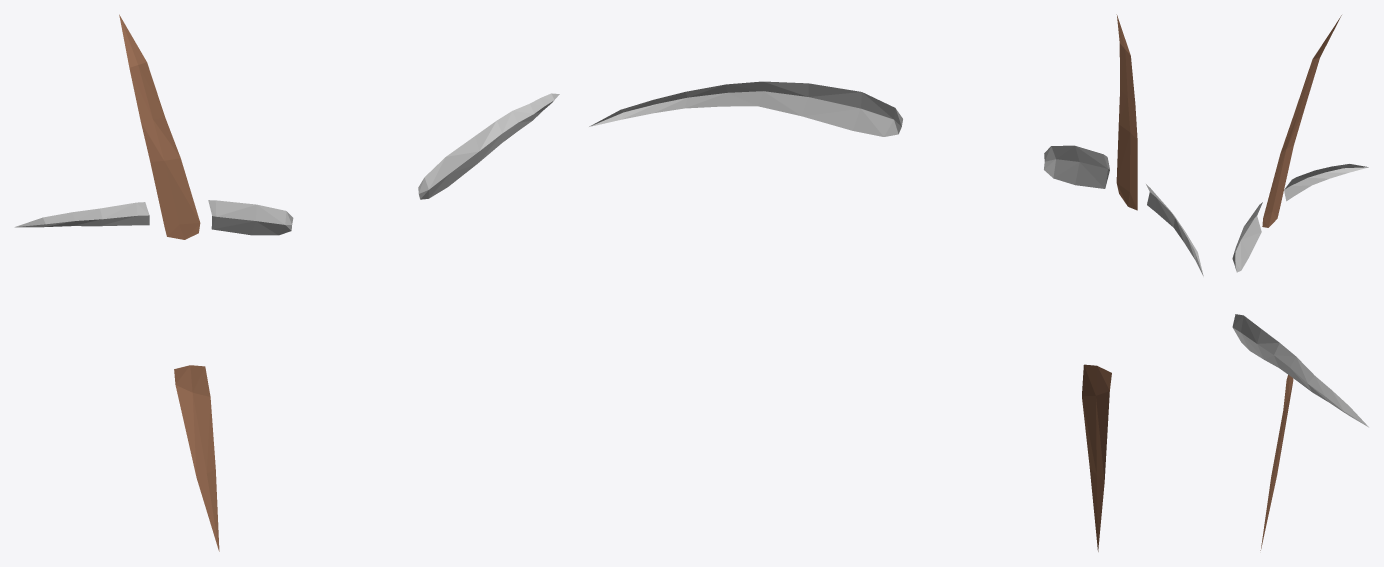
Rendered from eyebrowScarWhiteFemale.glb.
The picture shows the model from 3 angles, left to right: view 1: azimuth 30°, elevation 25°; view 2: azimuth 150°, elevation 25°; view 3: azimuth 270°, elevation 25°; orthographic projection. The views are drawn at different scales.
Parts seen in each view (by area): view 1: eyebrowScarWhiteFemale; view 2: eyebrowScarWhiteFemale; view 3: eyebrowScarWhiteFemale.
Part boxes in pixels (bbox=[...]): eyebrowScarWhiteFemale: bbox=[14, 14, 559, 551]; eyebrowScarWhiteFemale: bbox=[589, 14, 1203, 551]; eyebrowScarWhiteFemale: bbox=[1232, 15, 1368, 550].
Size of the model in its own units: 0.1463 by 0.1338 by 0.0325.
